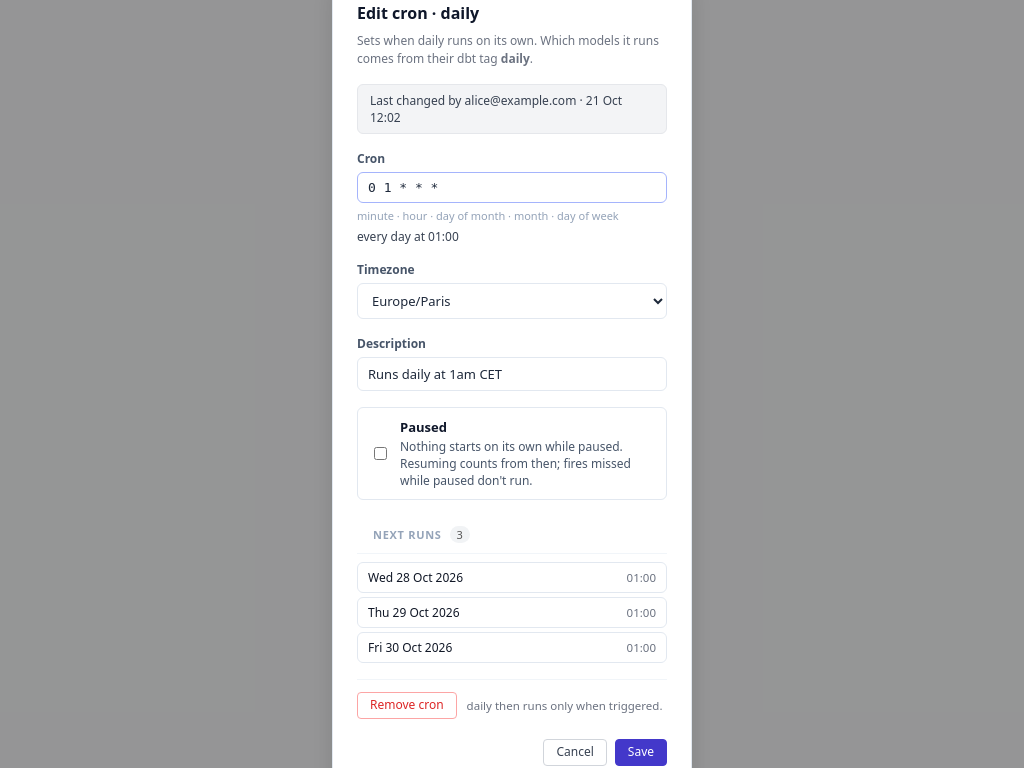
CronDialog › CronDialog an invalid cron disables Save and shows the parser's message
The width and height of the screenshot is (1024, 768).
Expected: the button "Save" is enabled, [615,739,667,766]
In the field labelled "Cron": (512, 188) [357,172,667,203], type "0 25 * * *"
Wait 300 ms
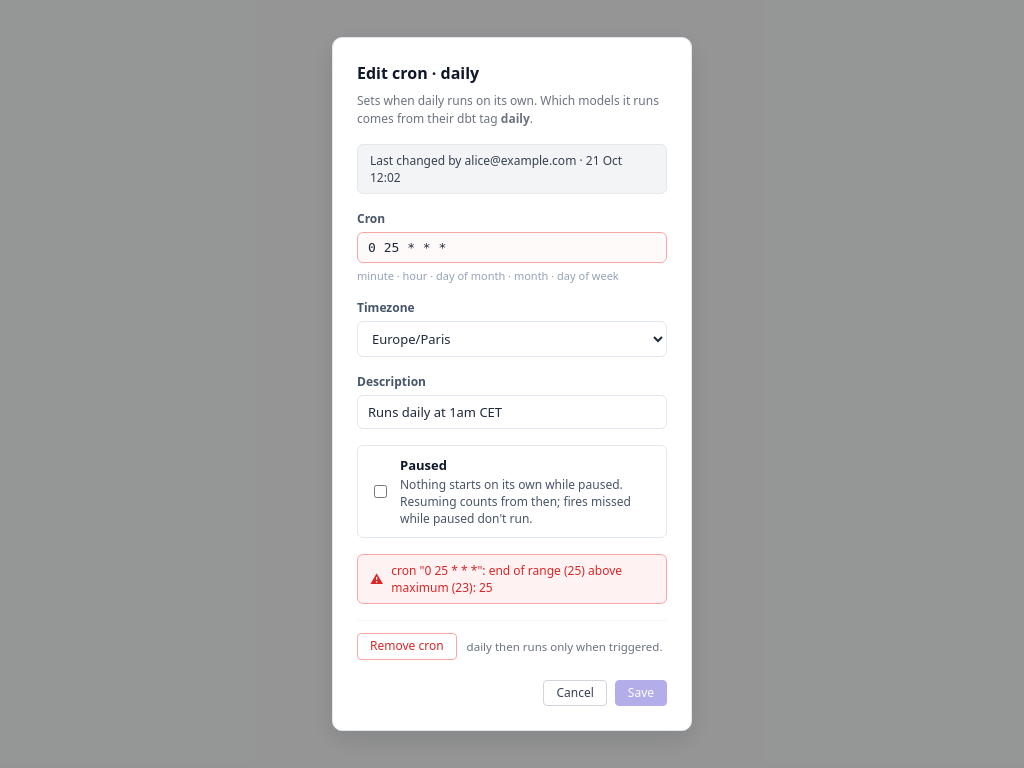
Expected: the text "cron \"0 25 * * *\": end of range (25) above maximum (23): 25" is shown, [391,562,622,596]
Expected: the button "Save" is disabled, [615,680,667,706]
Expected: the text "every day at 01:00" is gone
